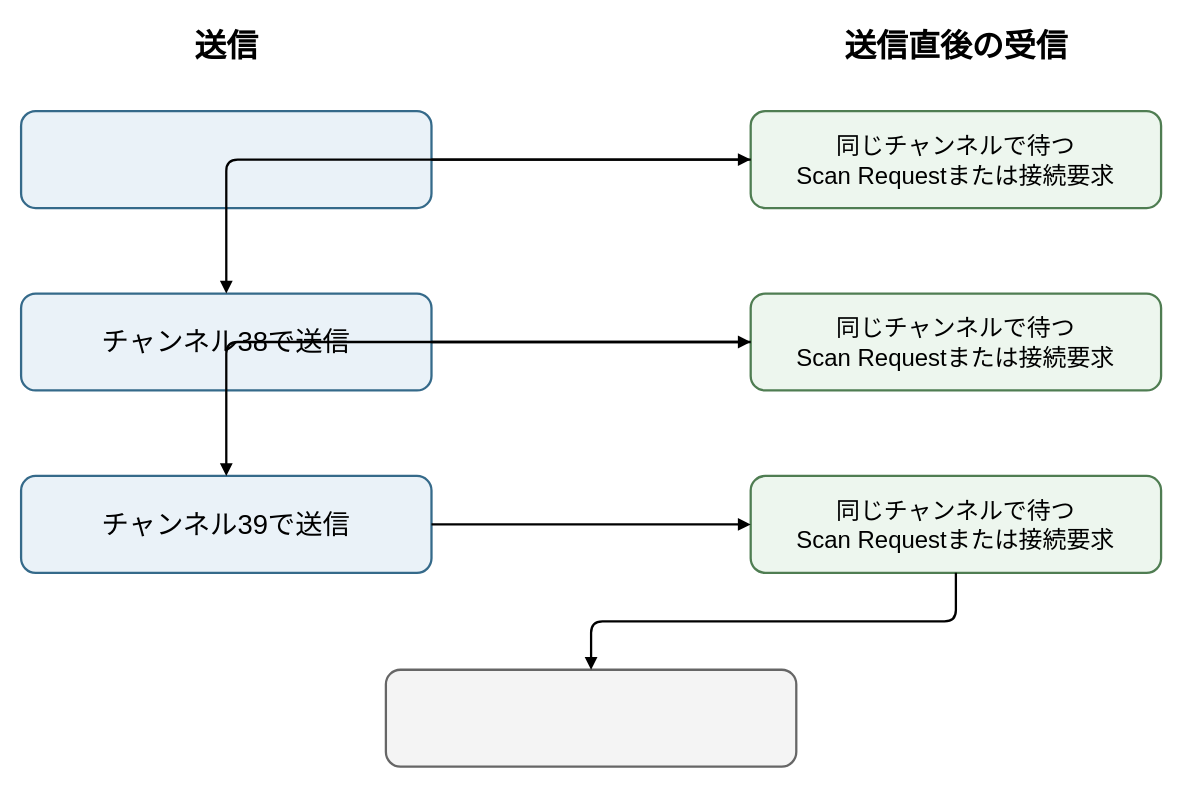
This 1181x787 diagram has some shape labels left out. The shapes that lost their labels are listed below. From the top down, each one's centre as x and y in pixels, then its label:
pixel 225 159: チャンネル37で送信
pixel 590 717: 次のAdvertising Eventまで休止
